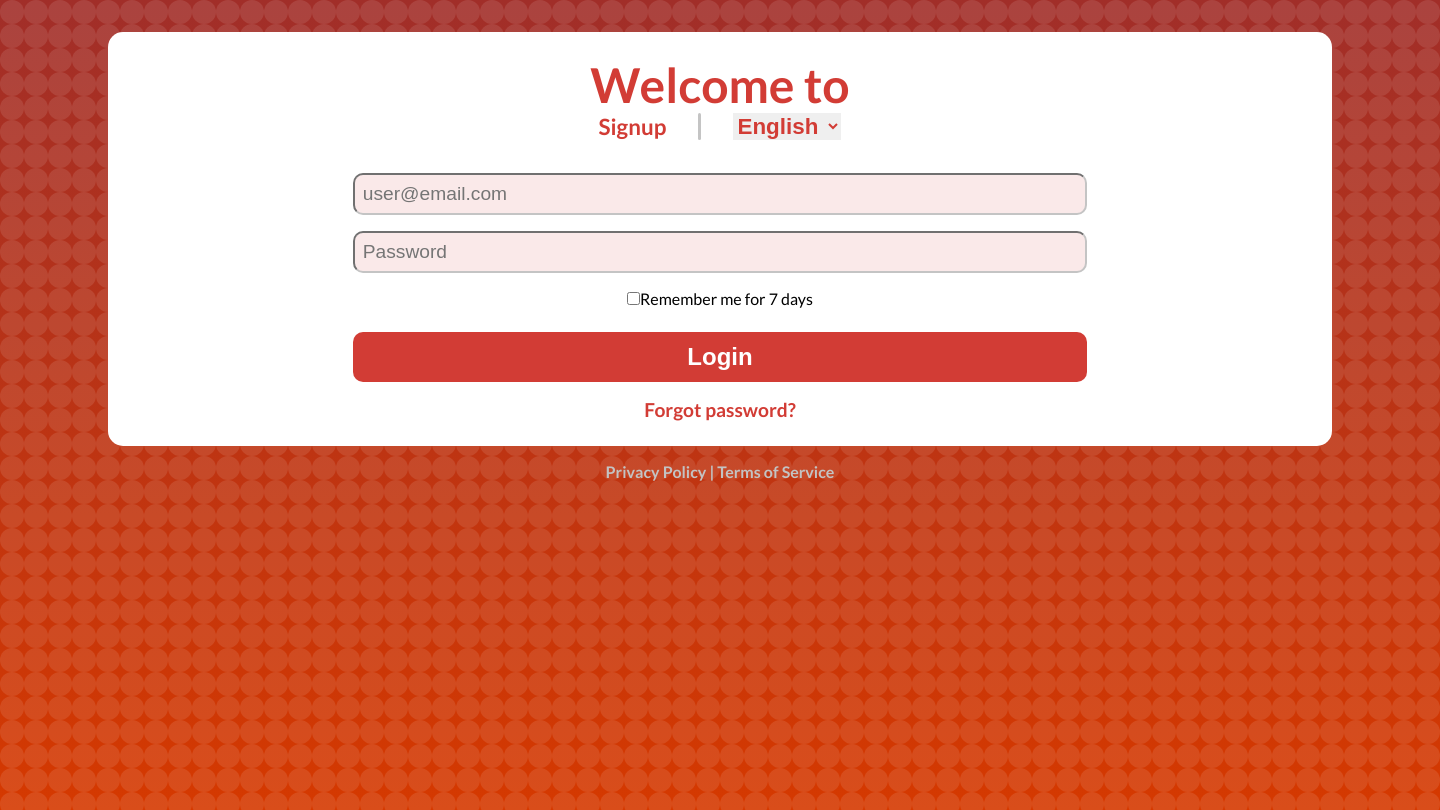
it: <Login /> › should render error message when submit with empty email and password
Click the button at x=720, y=357, box x1=353 y1=332 x2=1087 y2=382
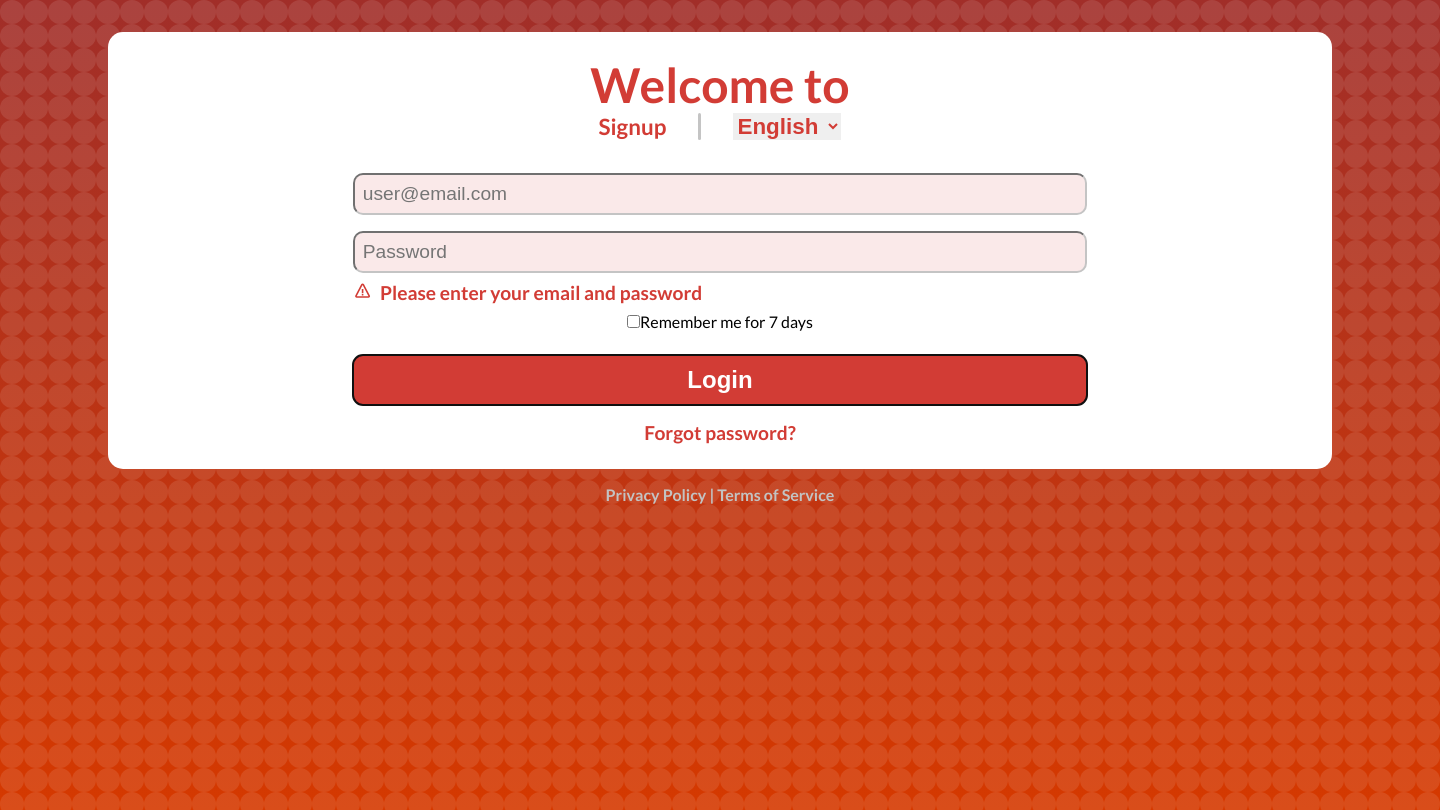
Expected: the text "Please enter your email and password" is shown, x1=380 y1=281 x2=702 y2=304
